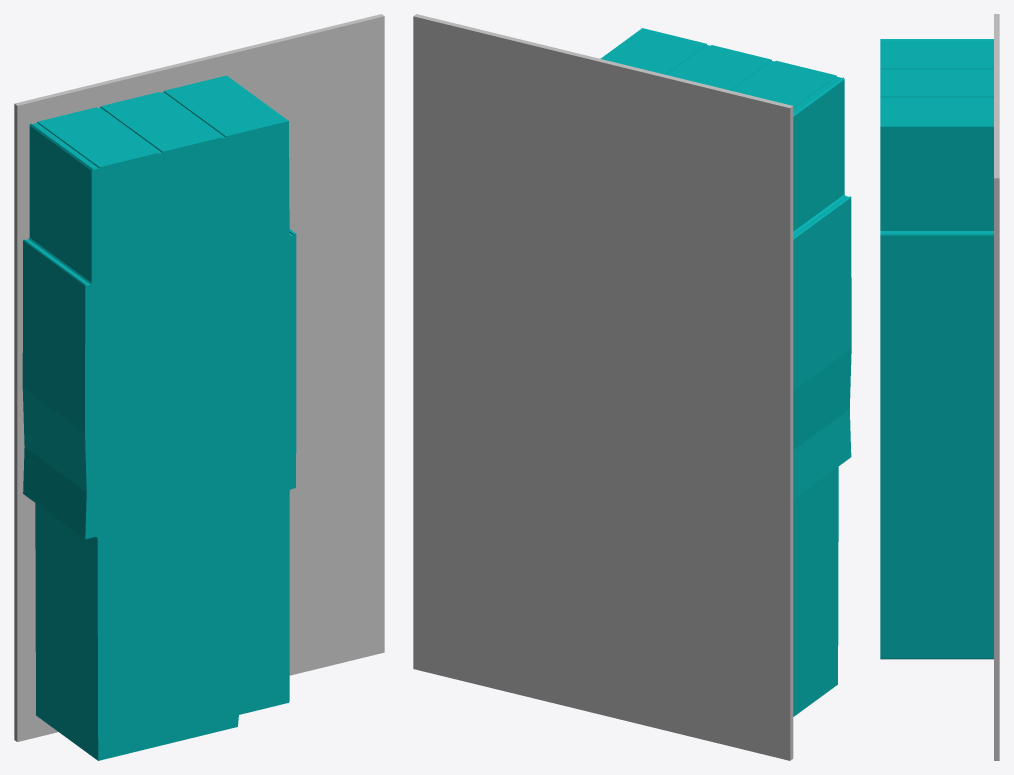
3 views of the same model, side by side, from view 1: azimuth 30°, elevation 25°; view 2: azimuth 150°, elevation 25°; view 3: azimuth 270°, elevation 25° (orthographic). The views are drawn at different scales.
Parts seen in each view (by area): view 1: world; view 2: world; view 3: world.
Part boxes in pixels (<box>): world: <box>14,14,384,760</box>; world: <box>413,14,851,760</box>; world: <box>880,14,999,760</box>.
Size of the model in its own units: 10.23 by 16.93 by 3.15.
